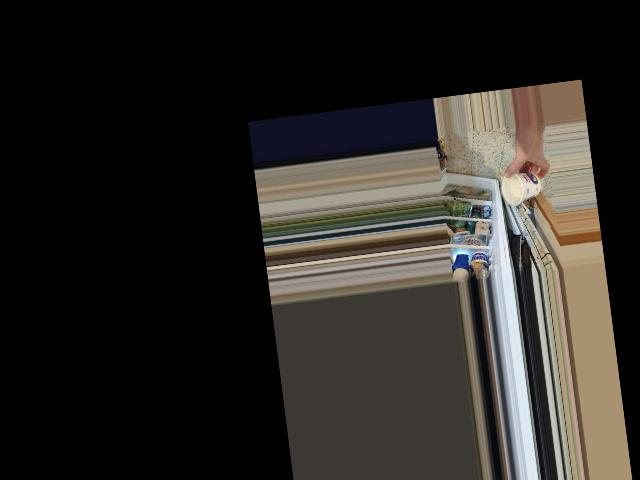cotage: (496, 168, 541, 206)
